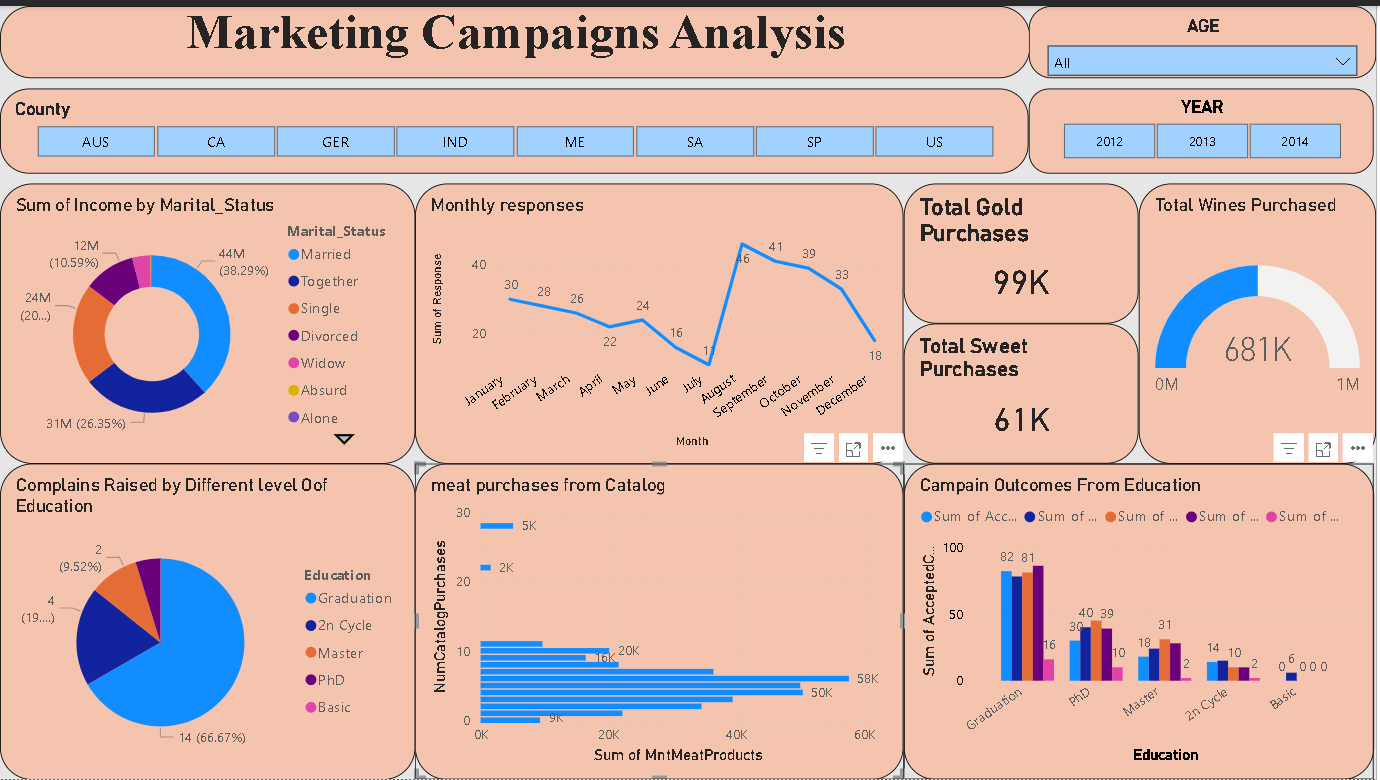

The dashboard page shown, as its layout file describes it:
{"tool":"powerbi","page":{"name":"Page 1","canvas":[1280,720],"ordinal":0},"visuals":[{"type":"textbox","title":"Marketing Campaigns Analysis","box":[0,0,958.1,67.4],"z":0},{"type":"slicer","title":"AGE","fields":{"Values":["marketing_data.age"]},"box":[957,0,323.3,67.4],"z":1},{"type":"slicer","title":"County","fields":{"Values":["marketing_data.Country"]},"box":[0,76.7,957,79.1],"z":2},{"type":"slicer","title":"YEAR","fields":{"Values":["marketing_data.Dt_Customer.Variation.Date Hierarchy.Year"]},"box":[957,76.7,320.9,79.1],"z":4},{"type":"donutChart","fields":{"Y":["Sum(marketing_data.Income)"],"Category":["marketing_data.Marital_Status"]},"box":[0,165.1,386,260.5],"z":5},{"type":"lineChart","title":"Monthly responses","fields":{"Y":["Sum(marketing_data.Response)"],"Category":["marketing_data.Dt_Customer.Variation.Date Hierarchy.Month"]},"box":[386,165.1,454.7,260.5],"z":8},{"type":"pieChart","title":"Complains Raised by Different level Oof Education","fields":{"Y":["Sum(marketing_data.Complain)"],"Category":["marketing_data.Education"]},"box":[0,425.6,386,294.2],"z":9},{"type":"barChart","title":"meat purchases from Catalog","fields":{"Category":["marketing_data.NumCatalogPurchases"],"Y":["Sum(marketing_data.MntMeatProducts)"]},"box":[386,425.6,454.7,294.2],"z":10},{"type":"card","title":"Total Gold Purchases","fields":{"Values":["Sum(marketing_data.MntGoldProds)"]},"box":[840.7,165.1,218.6,130.2],"z":11},{"type":"card","title":"Total Sweet Purchases","fields":{"Values":["Sum(marketing_data.MntSweetProducts)"]},"box":[840.7,295.3,218.6,130.2],"z":12},{"type":"gauge","title":"Total Wines Purchased","fields":{"Y":["Sum(marketing_data.MntWines)"]},"box":[1059.3,165.1,220.9,260.5],"z":13},{"type":"clusteredColumnChart","title":"Campain Outcomes From Education","fields":{"Y":["Sum(marketing_data.AcceptedCmp1)","Sum(marketing_data.AcceptedCmp3)","Sum(marketing_data.AcceptedCmp4)","Sum(marketing_data.AcceptedCmp5)","Sum(marketing_data.AcceptedCmp2)"],"Category":["marketing_data.Education"]},"box":[840.7,425.6,437.2,294.2],"z":14}]}

Visuals, with their boxes in screenshot pixels (x1, y1, x2, y2), scaled from the page's 1280x720 canvas onto the 1380x780 screenshot:
"Marketing Campaigns Analysis" textbox: [0,0,1033,73]
"AGE" slicer: [1032,0,1379,73]
"County" slicer: [0,83,1032,169]
"YEAR" slicer: [1032,83,1378,169]
donutChart - Sum(marketing_data.Income) x marketing_data.Marital_Status: [0,179,416,461]
"Monthly responses" lineChart: [416,179,906,461]
"Complains Raised by Different level Oof Education" pieChart: [0,461,416,779]
"meat purchases from Catalog" barChart: [416,461,906,779]
"Total Gold Purchases" card: [906,179,1142,320]
"Total Sweet Purchases" card: [906,320,1142,461]
"Total Wines Purchased" gauge: [1142,179,1379,461]
"Campain Outcomes From Education" clusteredColumnChart: [906,461,1378,779]
